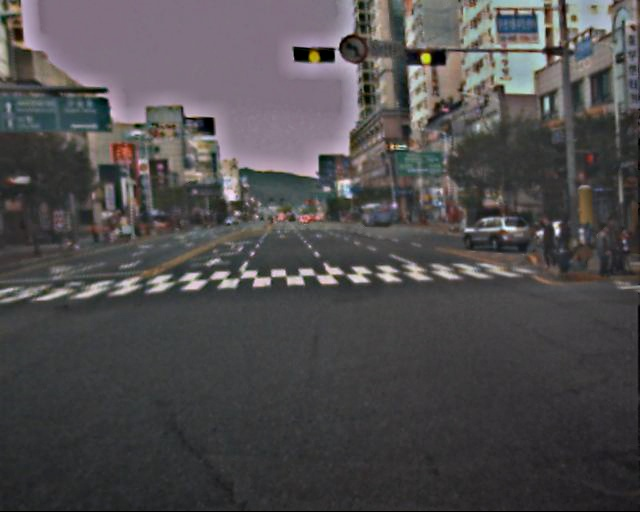person: (551, 213, 578, 282), (538, 208, 559, 273), (602, 215, 623, 277), (589, 223, 609, 281)
